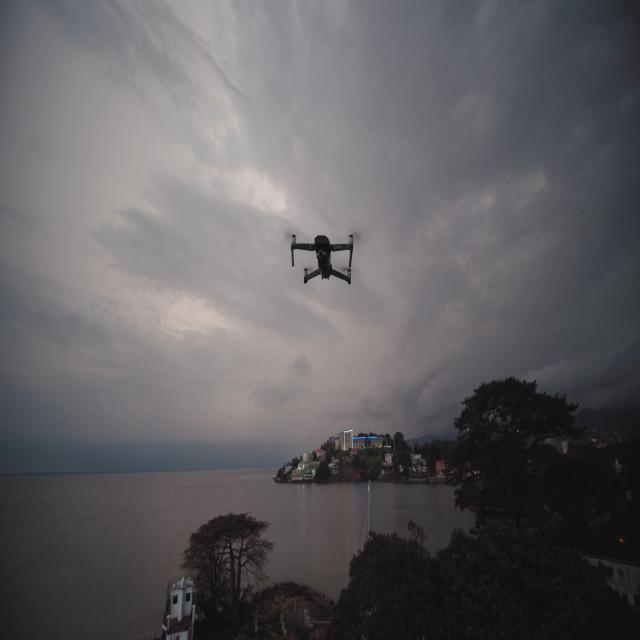drone: (290, 232, 354, 286)
